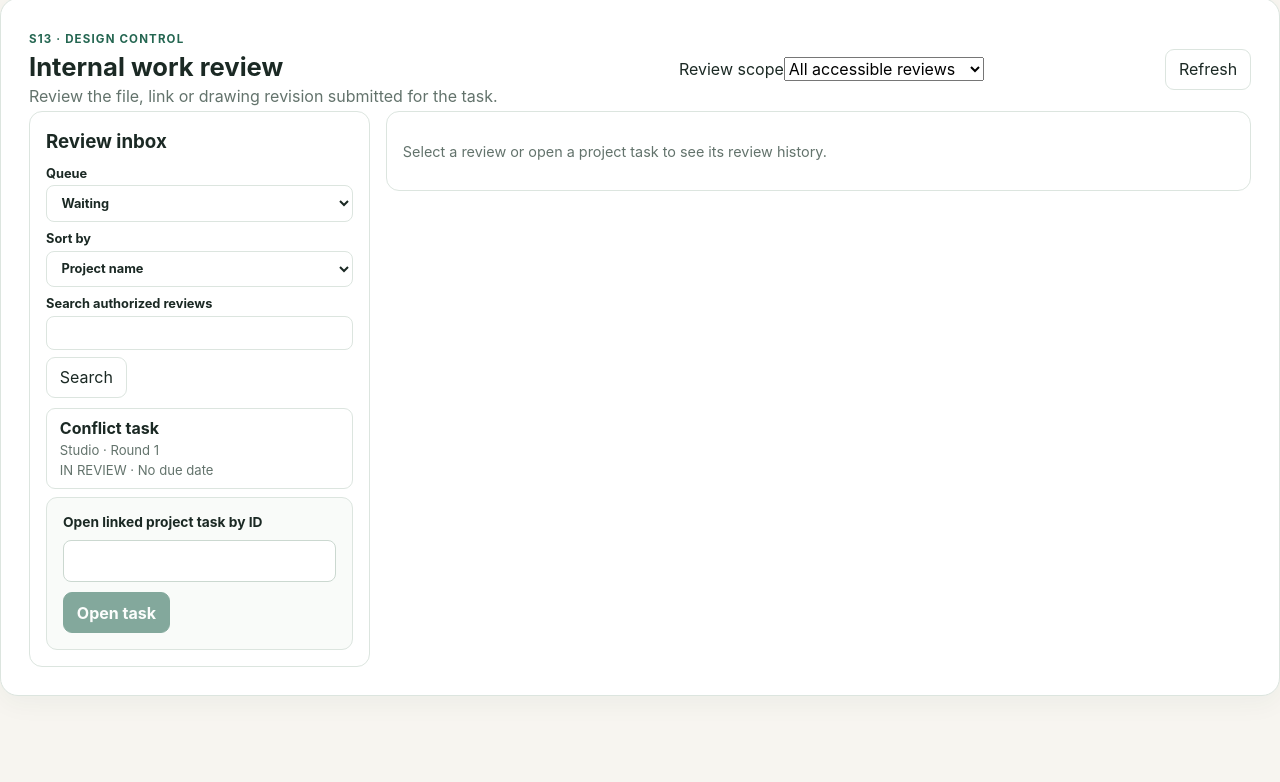
Scenario: ReviewWorkspace › clears protected review data after a denied detail load and refreshes current context after a conflict
The width and height of the screenshot is (1280, 782).
Click the button "Conflict task Studio · Round 1 IN REVIEW · No due date". click: (109,428)
box: x1=46 y1=408 x2=353 y2=489
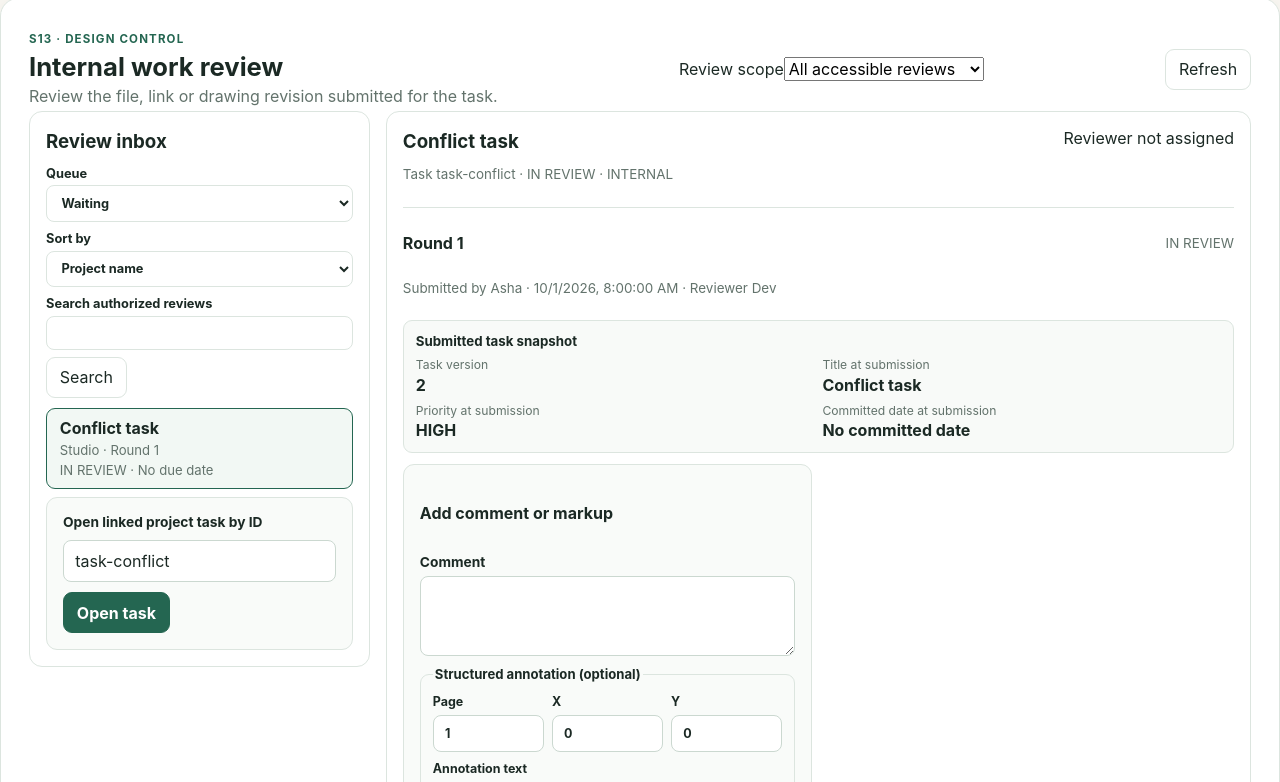
Check: the heading "Conflict task" is shown, box x1=403 y1=130 x2=519 y2=153
Type "A note" into the text box labelled "Comment". click: (607,616)
box: x1=420 y1=576 x2=795 y2=656
(page scrolled)
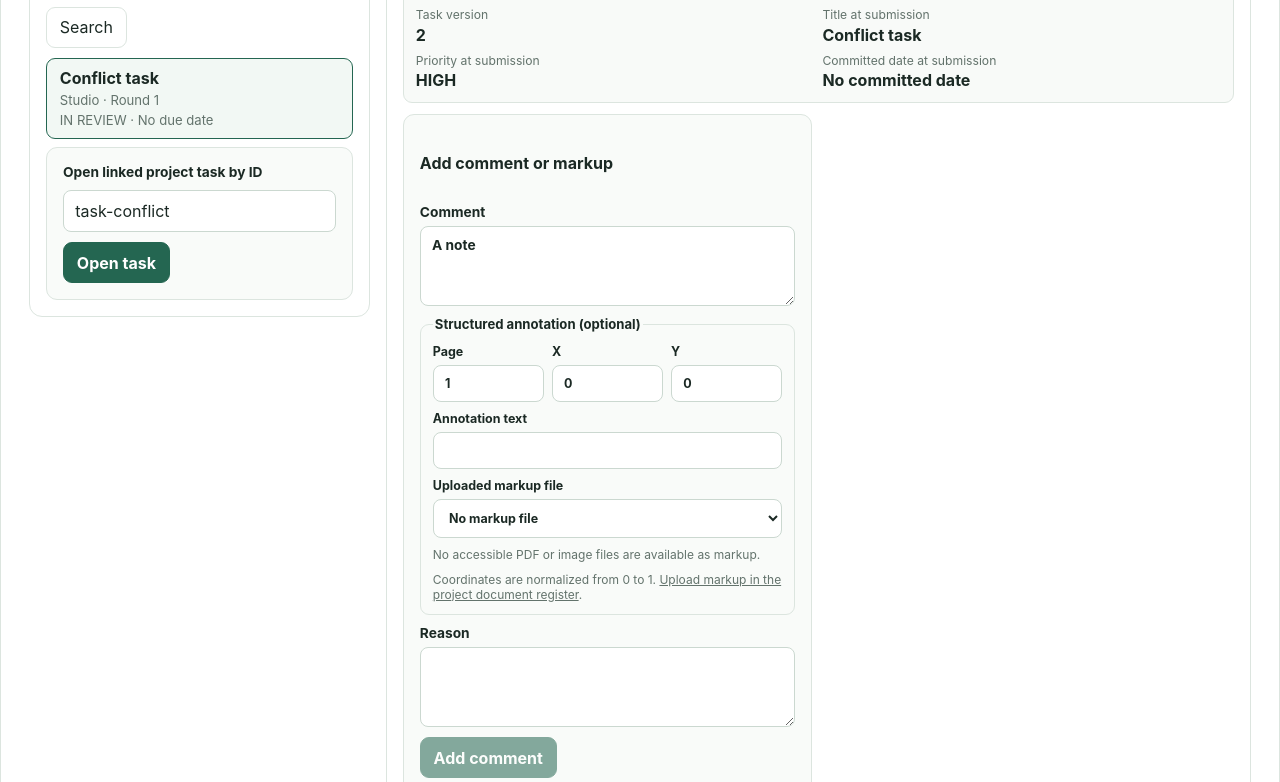
Type "Review note" into the text box labelled "Reason". click: (607,687)
box: x1=420 y1=647 x2=795 y2=727
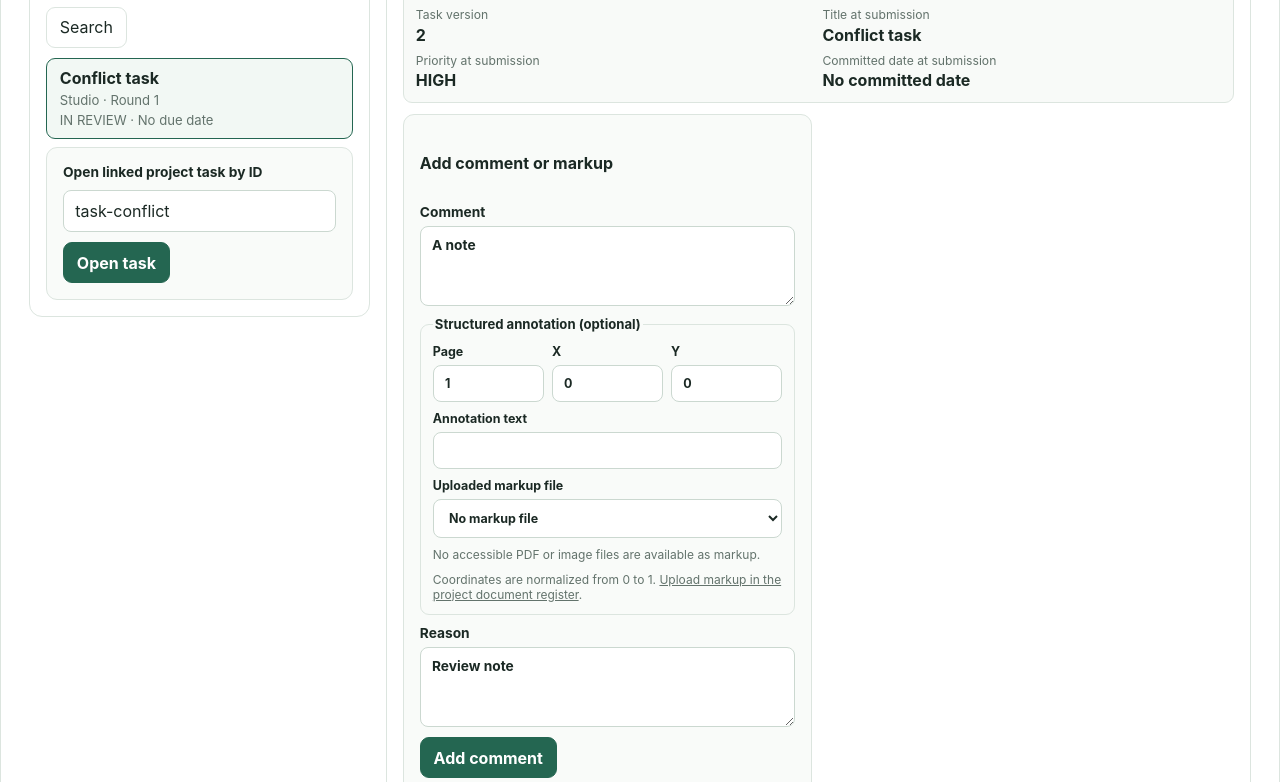
Click the button "Add comment". click: (488,758)
box: x1=420 y1=737 x2=557 y2=778
(page scrolled)
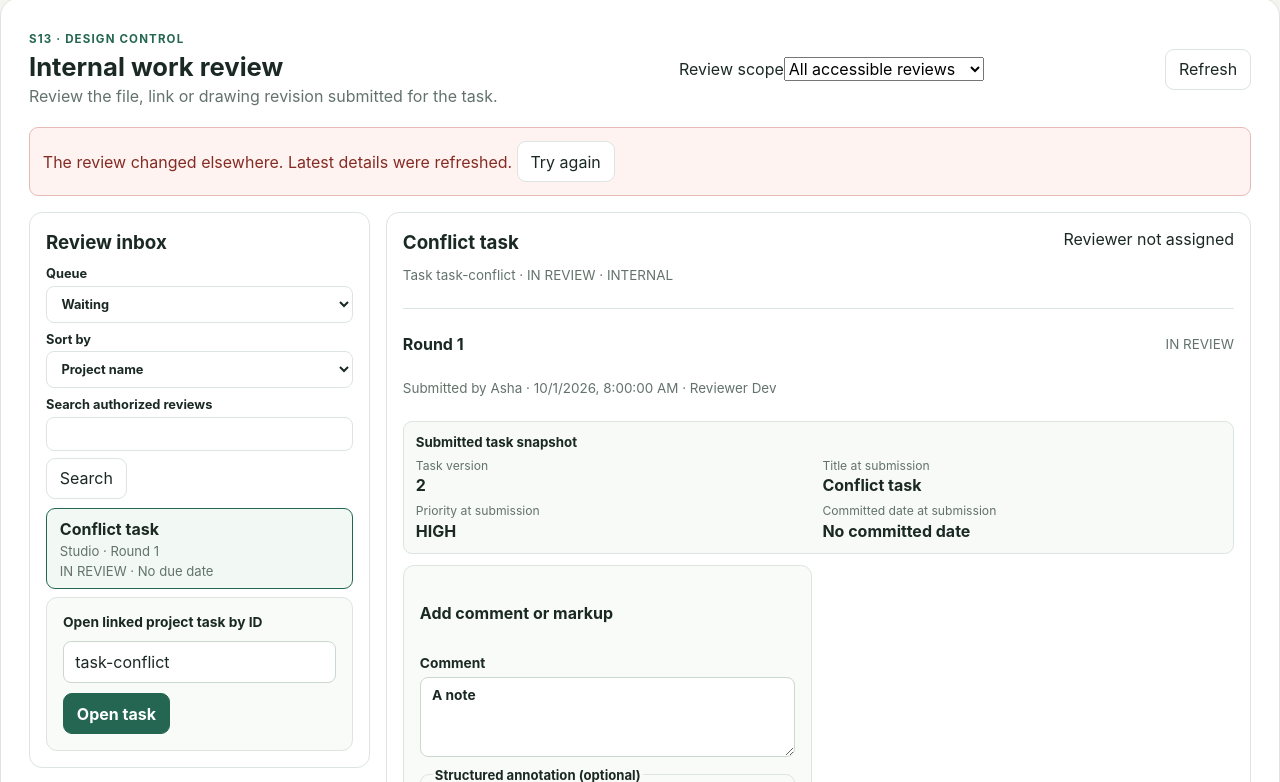
Check: the message shows "The review changed elsewhere. Latest details were refreshed.", box x1=43 y1=152 x2=512 y2=172
Click the button "Refresh". click: (1208,69)
box: x1=1165 y1=48 x2=1251 y2=90
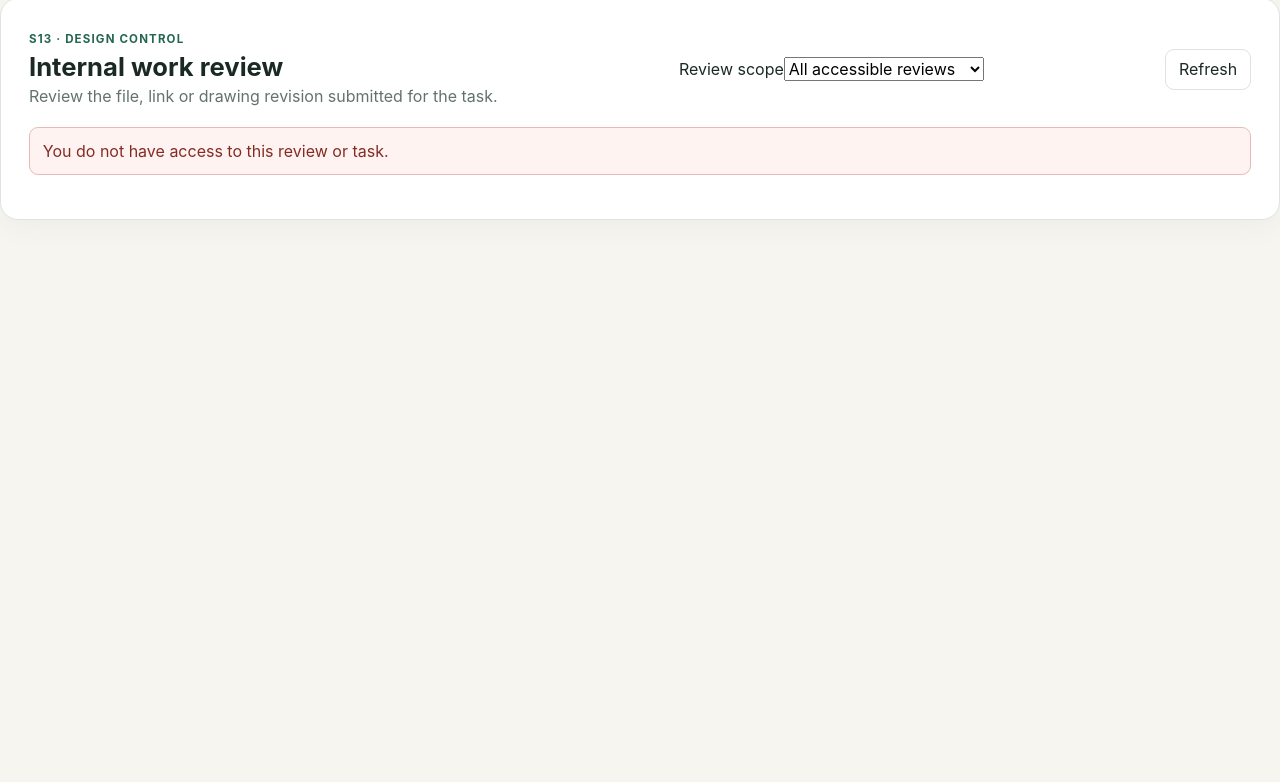
Check: the text "You do not have access to this review or task." is shown, box x1=29 y1=127 x2=1251 y2=175
Check: the button "Conflict task" is gone
Check: the heading "Add comment or markup" is gone
